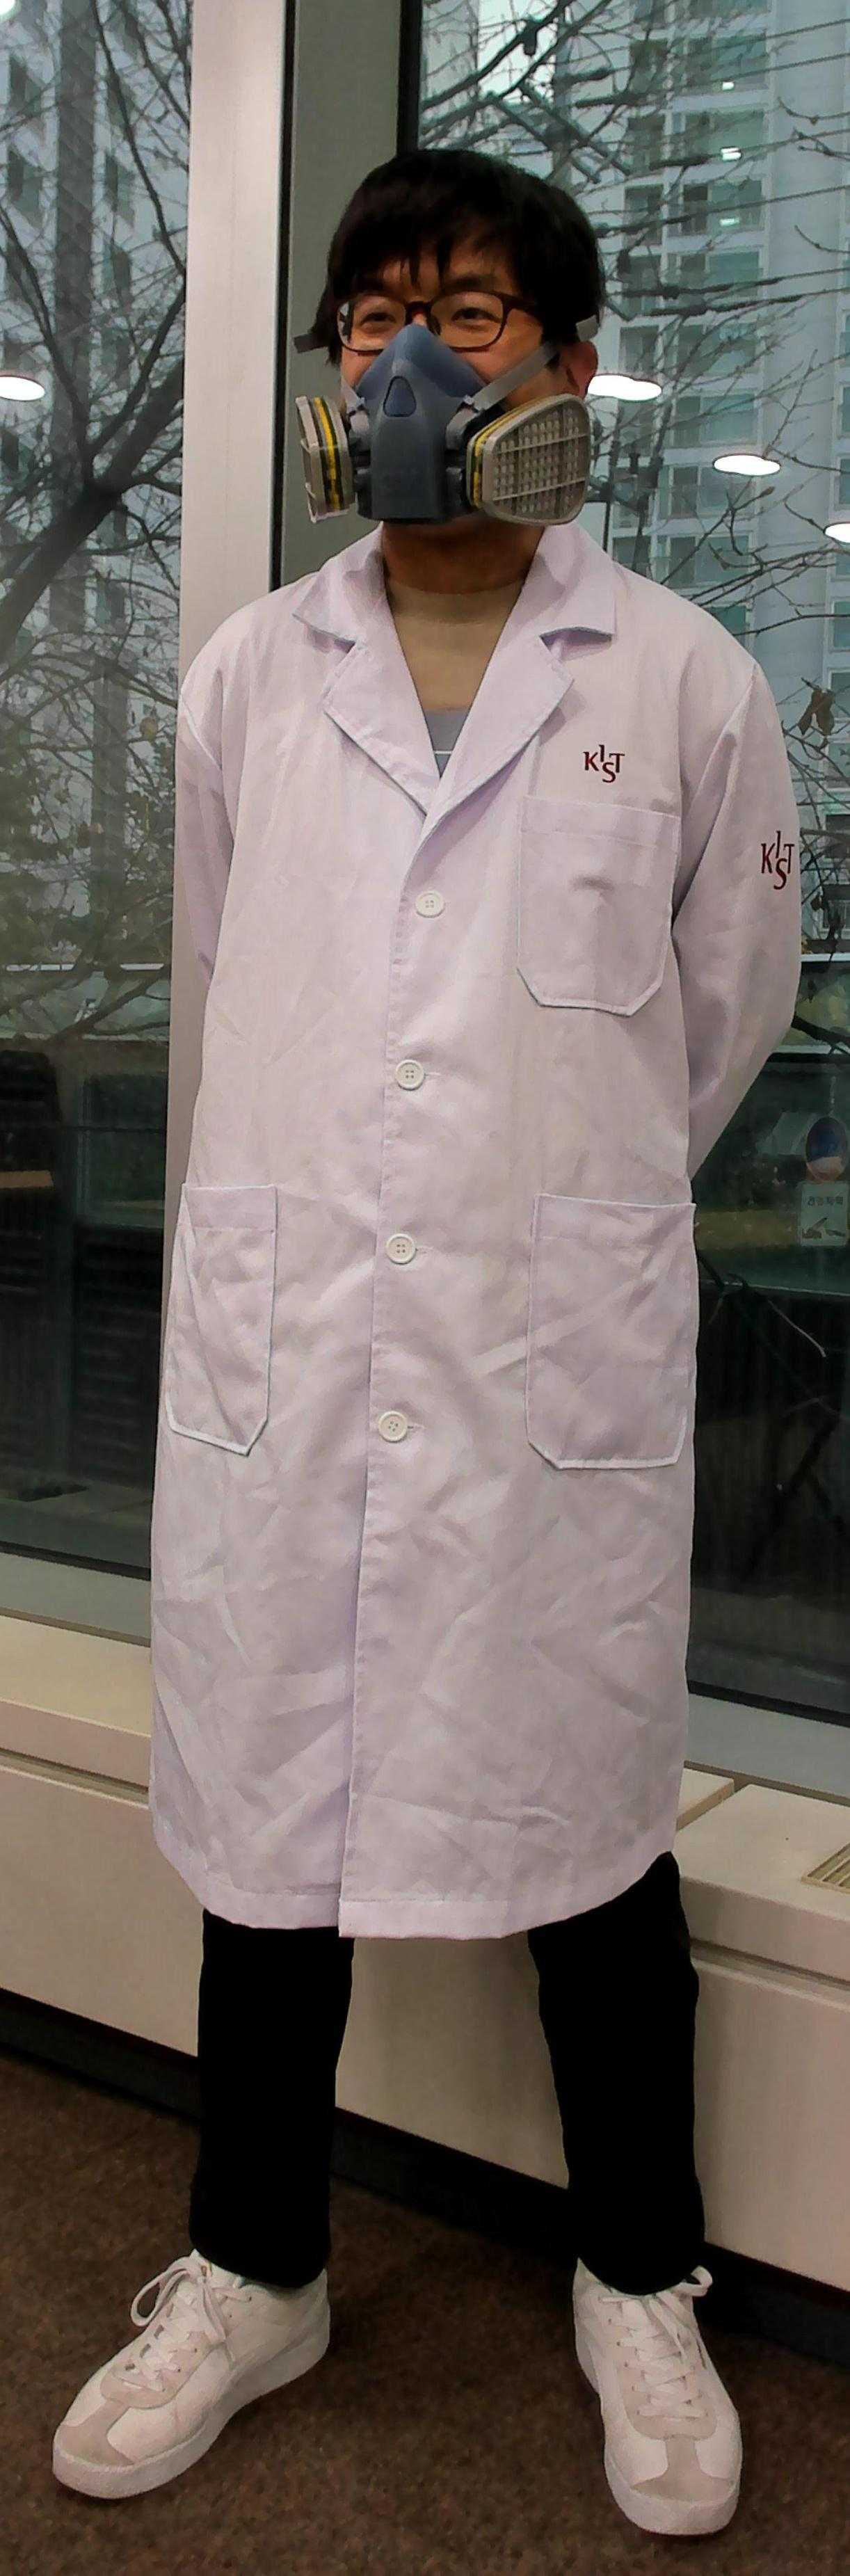lab_coat: (64, 572, 766, 1891)
